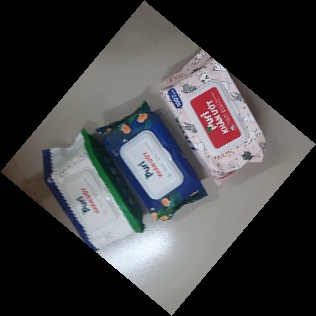Puri Trang: (39, 125, 146, 258)
Puri Xanh: (92, 99, 211, 227)
Puri hong: (155, 47, 268, 187)
